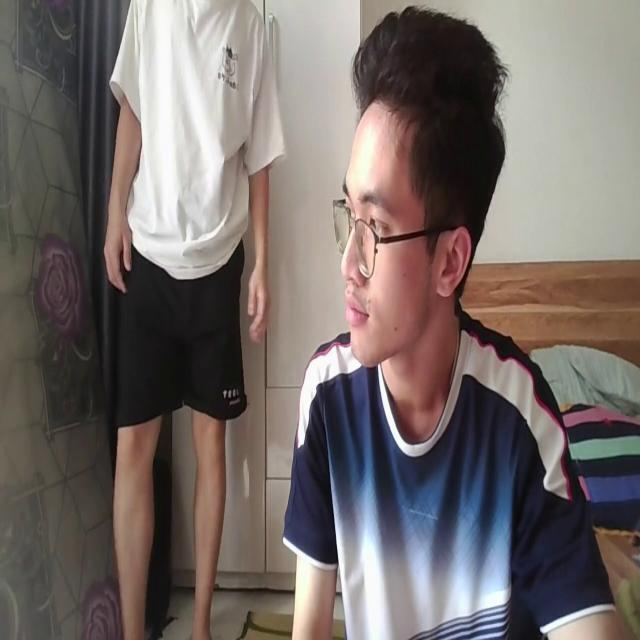extra_person: (100, 0, 286, 640)
student: (286, 4, 618, 640)
